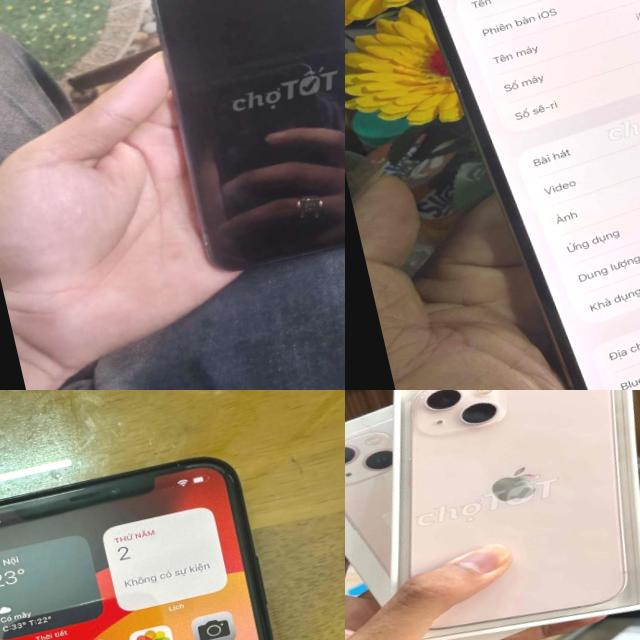gen_11: (0, 429, 345, 640), (132, 0, 345, 291)
gen_12_13: (399, 0, 640, 390), (346, 390, 640, 640)
